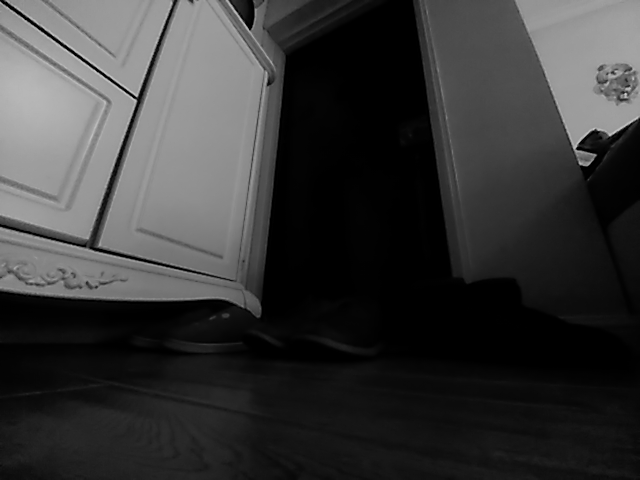shoe: (452, 276, 587, 367), (302, 299, 396, 355), (168, 309, 247, 355)
